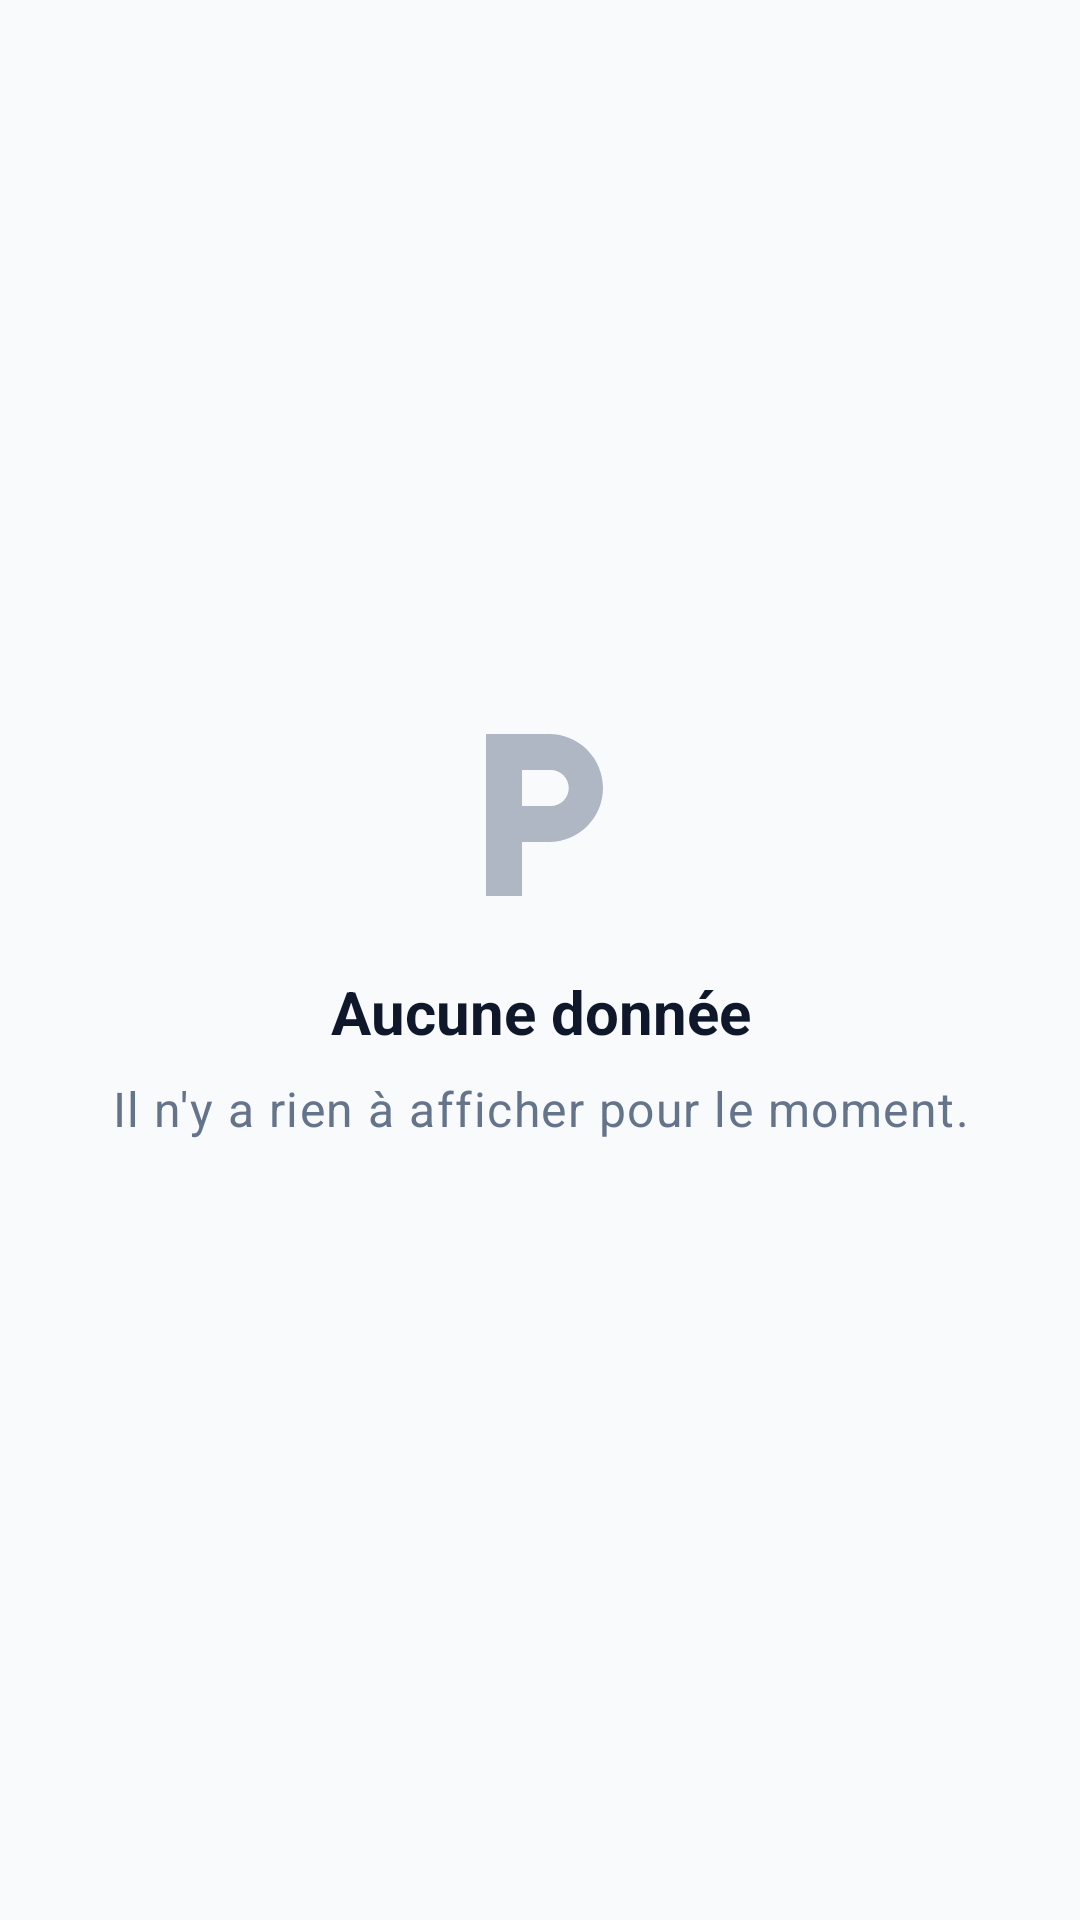

Icon click points for this 1080 x 1920 phone screenshot, format point (x, y):
local parking: point (544, 815)
